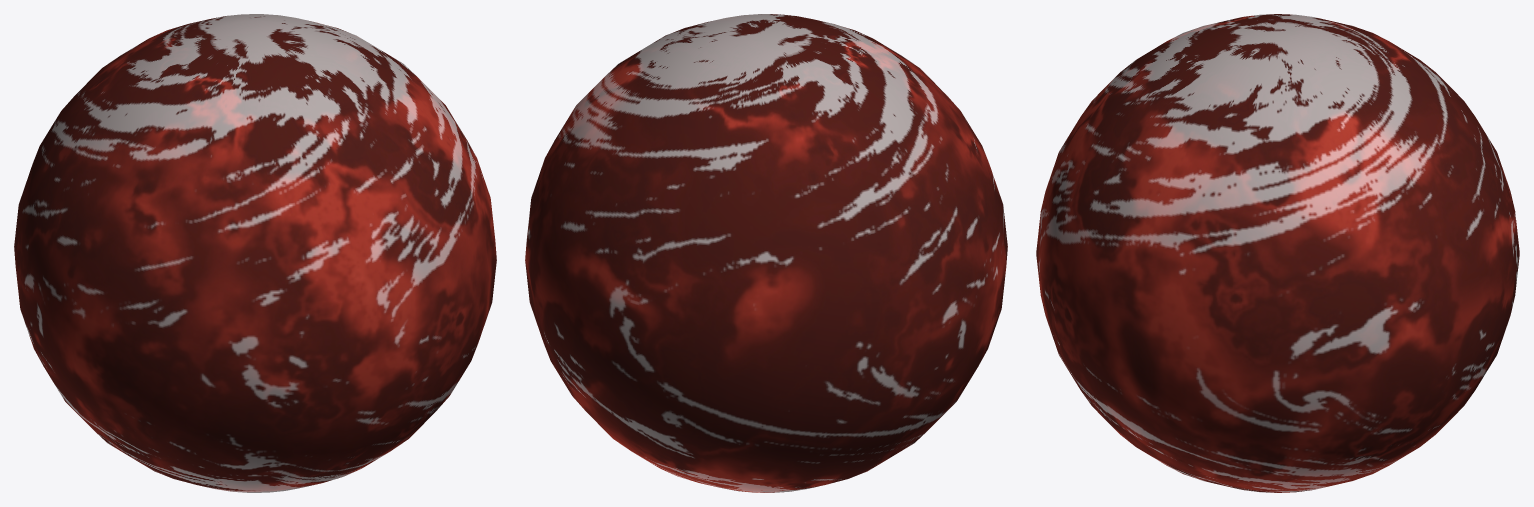
File: planet-5.glb
The picture shows the model from 3 angles, left to right: view 1: azimuth 30°, elevation 25°; view 2: azimuth 150°, elevation 25°; view 3: azimuth 270°, elevation 25°; orthographic projection.
Parts seen in each view (by area): view 1: 438b; view 2: 438b; view 3: 438b.
Part boxes in pixels (bbox=[...]): 438b: bbox=[14, 14, 496, 492]; 438b: bbox=[525, 14, 1007, 492]; 438b: bbox=[1036, 14, 1519, 492].
Bounding box in the file's own units: 1.13 × 1.12 × 1.13.
1 material, 1 textured.
